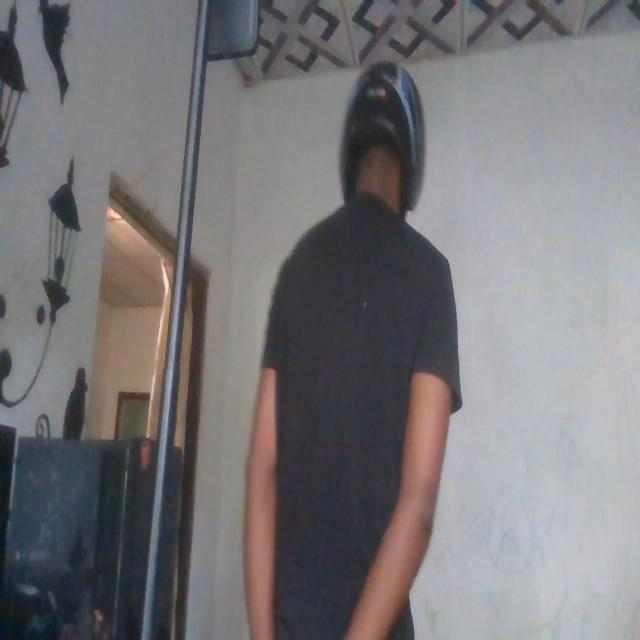Helmet_Wearer: (328, 54, 434, 272)
Person: (244, 51, 463, 640)
